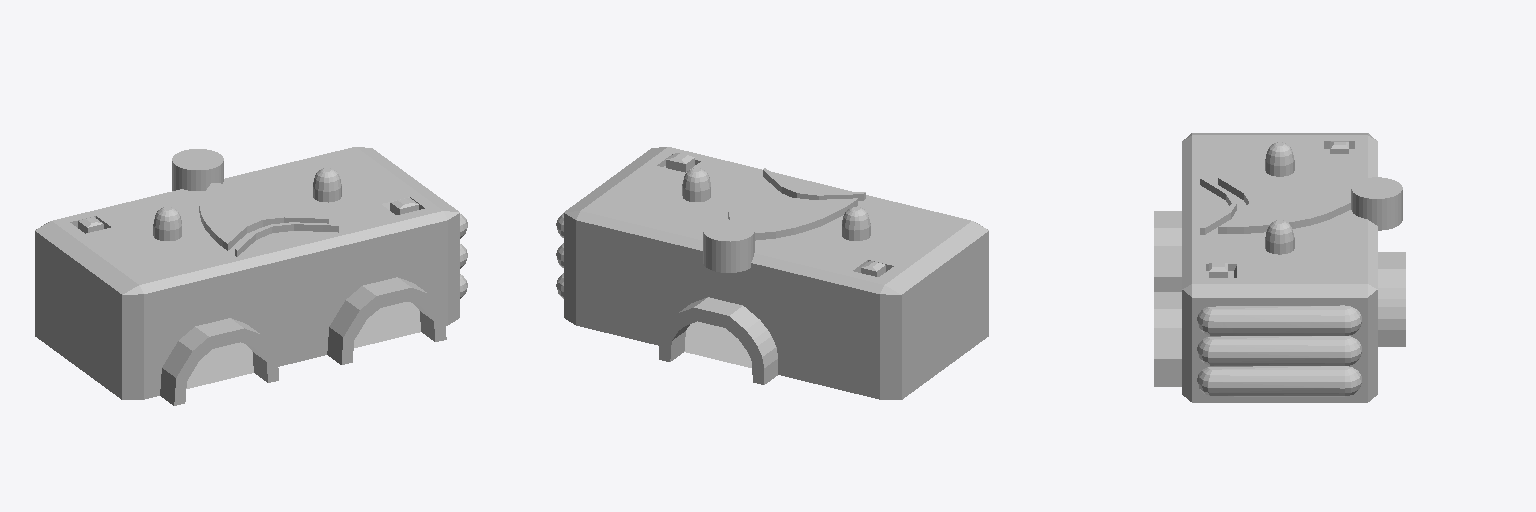
File: XNorGate.obj
3 renders of one model, left to right at view 1: azimuth 30°, elevation 25°; view 2: azimuth 150°, elevation 25°; view 3: azimuth 270°, elevation 25°, orthographic.
Parts seen in each view (by area): view 1: Gate_OR.009_Cube.016; view 2: Gate_OR.009_Cube.016; view 3: Gate_OR.009_Cube.016.
Boxes of the visible parts, <box> form: Gate_OR.009_Cube.016: <box>35,147,467,405</box>; Gate_OR.009_Cube.016: <box>556,147,988,399</box>; Gate_OR.009_Cube.016: <box>1154,133,1405,402</box>.
Size of the model in its own units: 8.34 by 3.09 by 5.13.